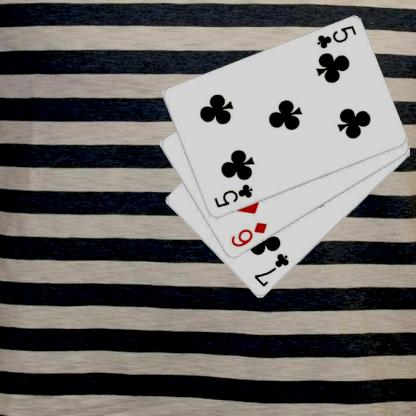5C: (211, 182, 254, 210), (314, 23, 357, 50)
6D: (228, 220, 268, 249)
7C: (251, 250, 291, 288)
